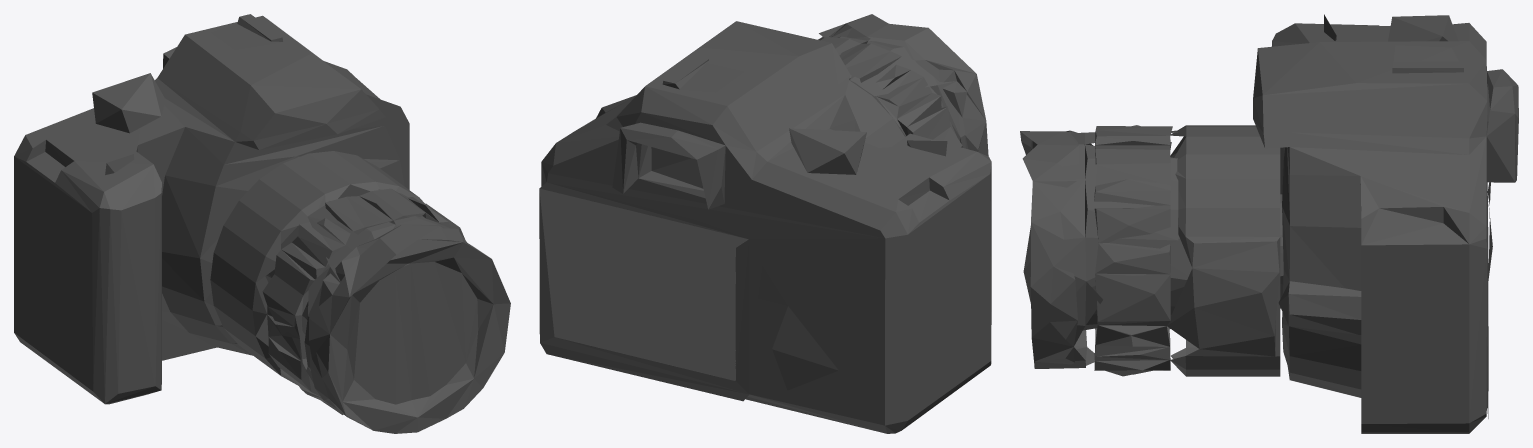
Rendered from model_align.obj.
The picture shows the model from 3 angles, left to right: view 1: azimuth 30°, elevation 25°; view 2: azimuth 150°, elevation 25°; view 3: azimuth 270°, elevation 25°; orthographic projection. The views are drawn at different scales.
Bounding box in the file's own units: 0.181 × 0.1398 × 0.2016.
